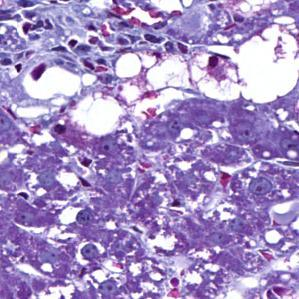ballooning: (144, 48, 243, 111)
